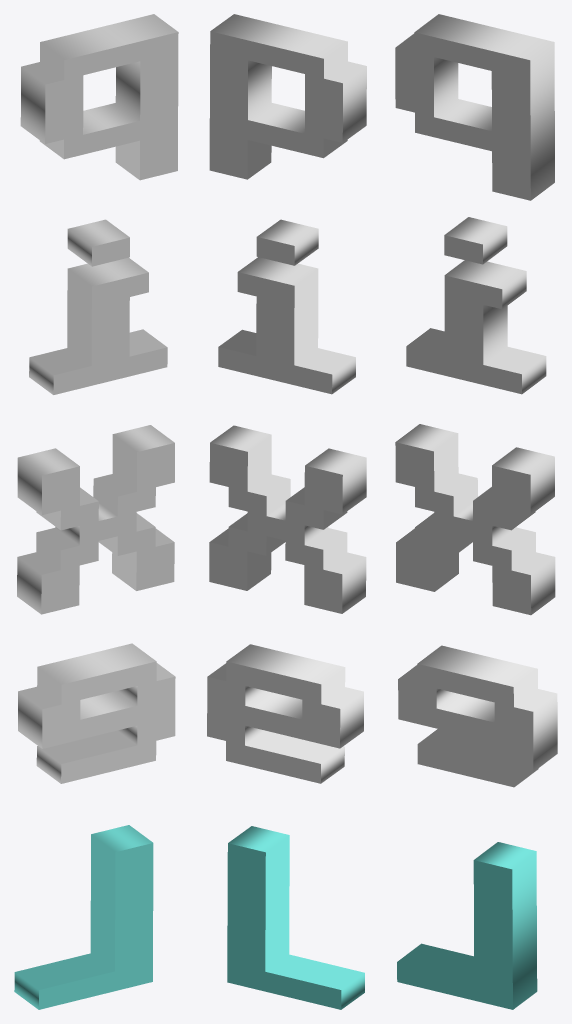
Rendered from pixel.glb.
The picture shows the model from 3 angles, left to right: view 1: azimuth 30°, elevation 25°; view 2: azimuth 150°, elevation 25°; view 3: azimuth 330°, elevation 25°; orthographic projection.
Visible parts, largest first — view 1: Text.001, Text, Text.003, Text.002, Text.004; view 2: Text.001, Text, Text.003, Text.002, Text.004; view 3: Text.001, Text, Text.003, Text.002, Text.004.
Part boxes in pixels (box(x1,y1,x2,y2)): Text.001: box(17, 425, 174, 614); Text: box(20, 14, 178, 180); Text.003: box(18, 643, 175, 783); Text.002: box(29, 219, 167, 394); Text.004: box(14, 825, 153, 1009); Text.001: box(209, 425, 366, 613); Text: box(209, 14, 366, 179); Text.003: box(207, 644, 363, 783); Text.002: box(218, 219, 355, 394); Text.004: box(227, 826, 364, 1009); Text.001: box(395, 424, 555, 615); Text: box(395, 14, 554, 200); Text.003: box(398, 645, 557, 787); Text.002: box(406, 217, 546, 394); Text.004: box(397, 842, 537, 1009).
Size of the model in its own units: 0.6488 by 4.33 by 0.2376.
